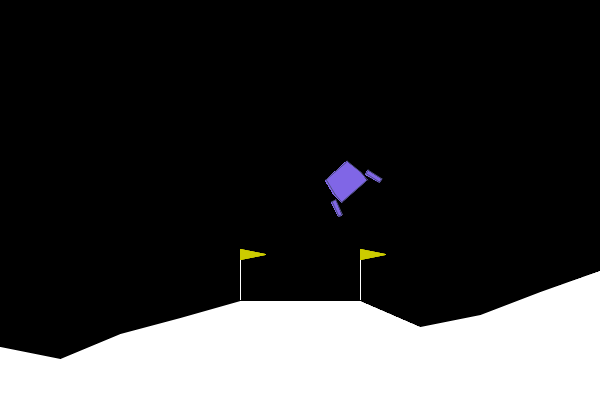lander: (312, 150, 384, 219)
